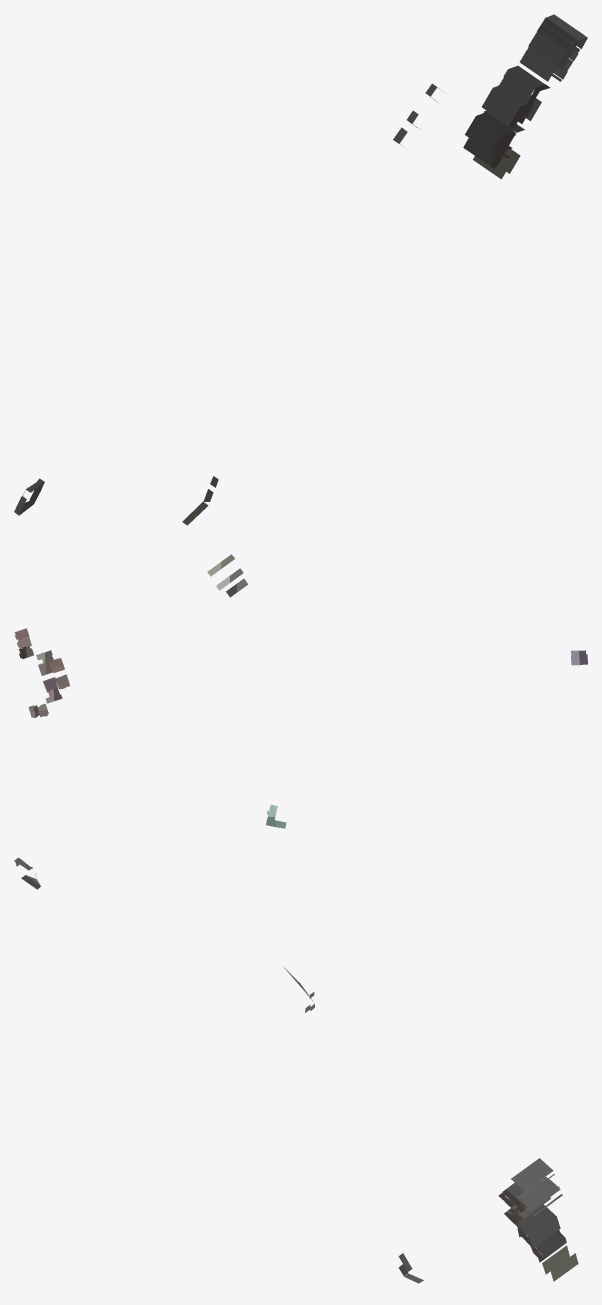
File: tile_LOD2_r3_c0.glb
3 renders of one model, top to bottom at view 1: azimuth 30°, elevation 25°; view 2: azimuth 150°, elevation 25°; view 3: azimuth 270°, elevation 25°, orthographic. The views are drawn at different scales.
Bounding box in the file's own units: 562 × 283 × 368.
Materials: 43 (26 with a texture image).
